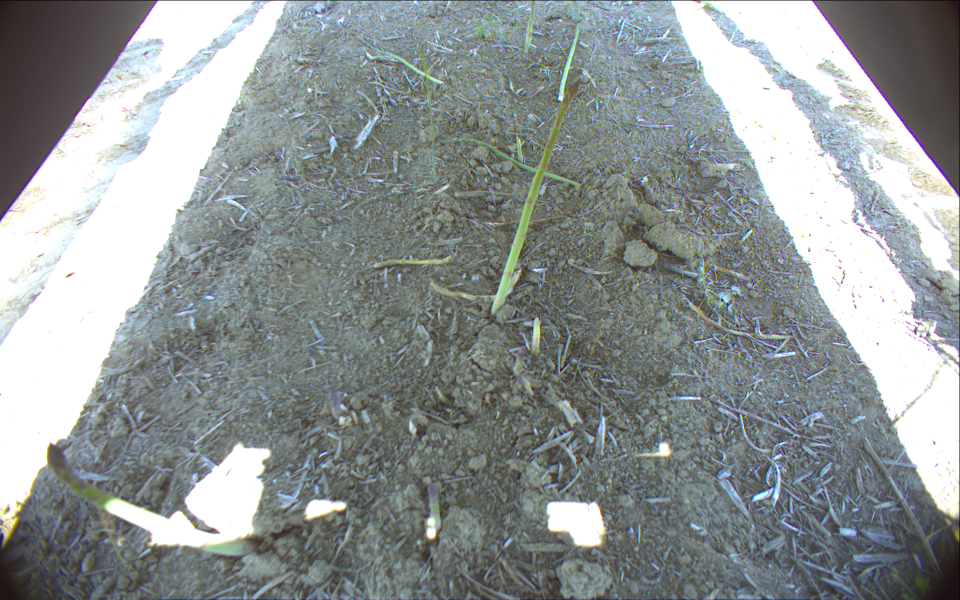aspa: (42, 442, 263, 561), (487, 75, 583, 319), (556, 21, 583, 104), (520, 1, 540, 54)
